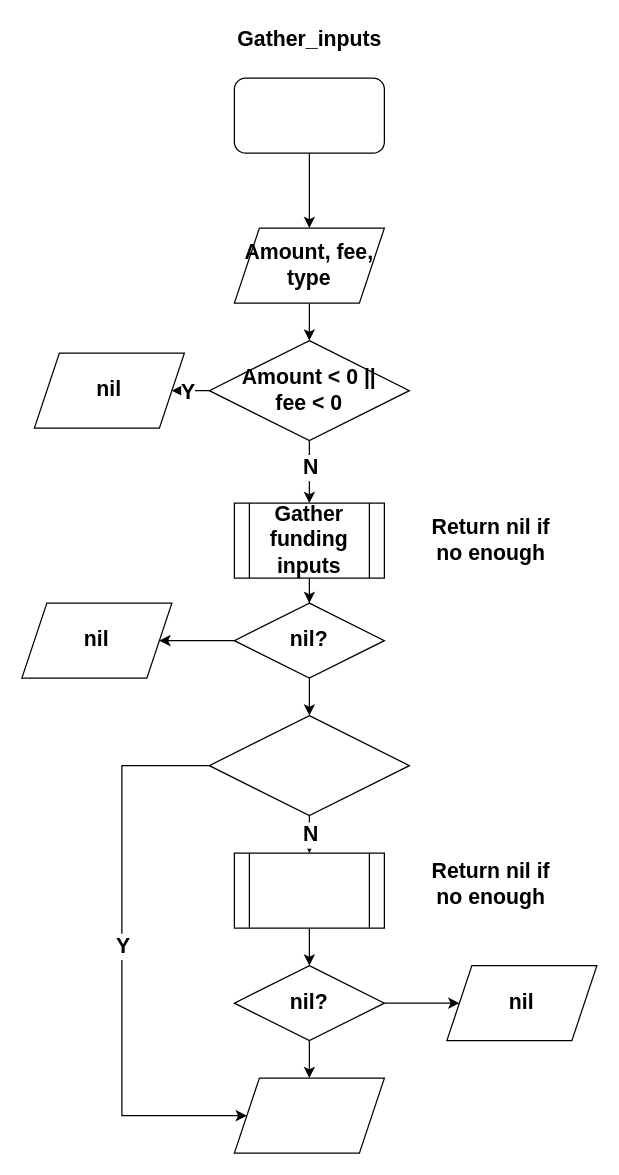
The diagram is 619 pixels wide and 1175 high, and some of its shapes have lost their labels. Here are the shapes that lost their labels. From the top down, the centre of each, then its label:
the point at 308,115: Begin
the point at 308,765: Funding inputs > amount + fee + container
the point at 308,890: Gather fee inputs
the point at 308,1115: Inputs cells
